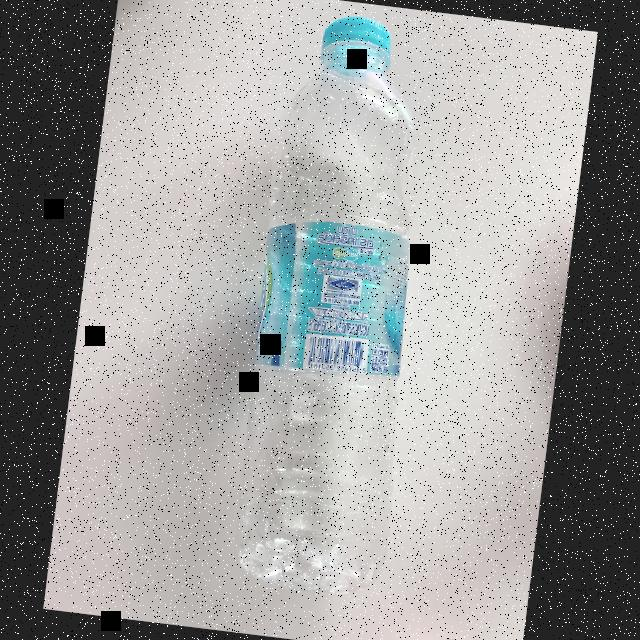plastic_bottle: (221, 3, 450, 600)
